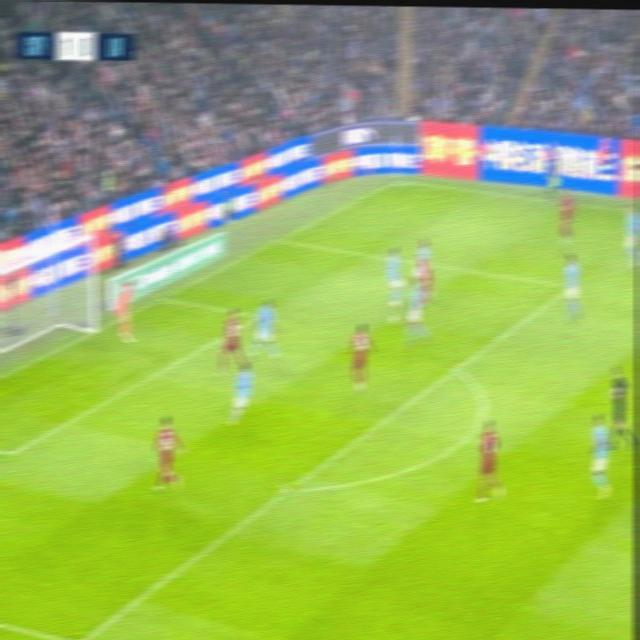bigarea_bottom_inner: (65, 629, 90, 640)
bigarea_top_outter: (270, 231, 286, 245)
bottom_arc_area_intersection: (278, 477, 298, 501)
corner: (389, 178, 404, 185)
smallarea_bottom_inner: (0, 438, 20, 466)
smallarea_top_inner: (246, 308, 260, 323)
smallarea_top_outter: (153, 290, 169, 306)
top_arc_area_intersection: (449, 360, 464, 378)
